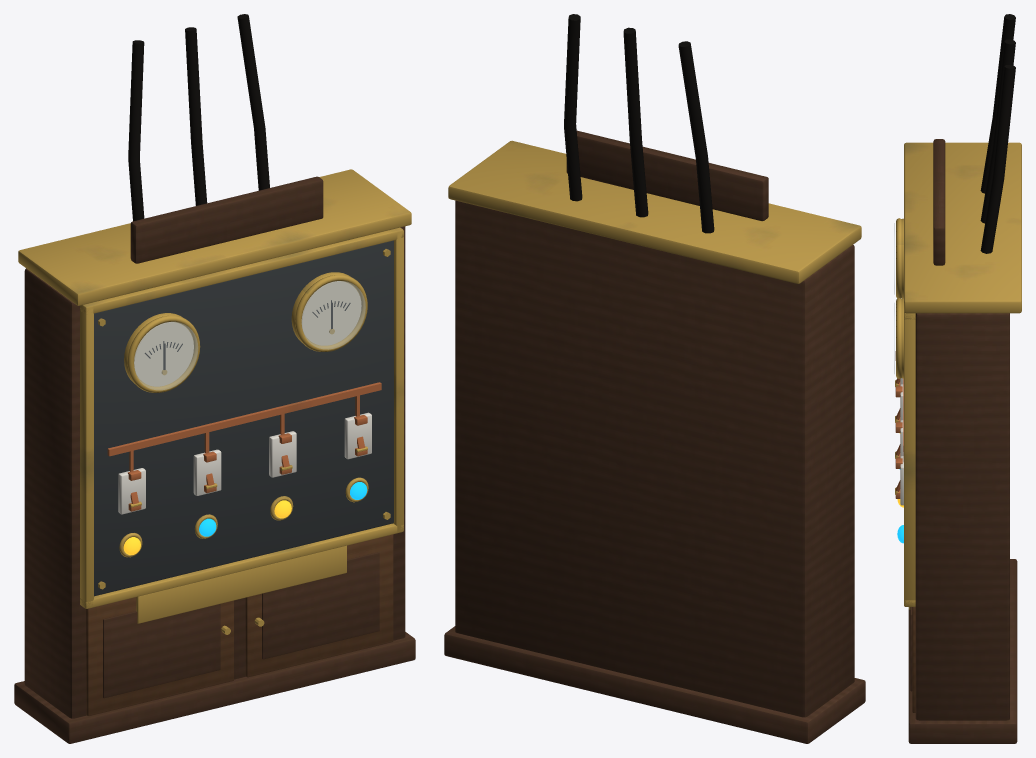
File: switchboard_terminal.glb
3 views of the same model, side by side, from view 1: azimuth 30°, elevation 25°; view 2: azimuth 150°, elevation 25°; view 3: azimuth 270°, elevation 25° (orthographic). The views are drawn at different scales.
Parts seen in each view (by area): view 1: switchboard_terminal_static; view 2: switchboard_terminal_static; view 3: switchboard_terminal_static.
Boxes of the visible parts, x1,y1,x2,y2 form: switchboard_terminal_static: [14, 14, 415, 743]; switchboard_terminal_static: [444, 14, 865, 743]; switchboard_terminal_static: [894, 14, 1021, 743].
Size of the model in its own units: 1.66 by 2.9 by 0.542.
Materials: 12 (4 with a texture image).
